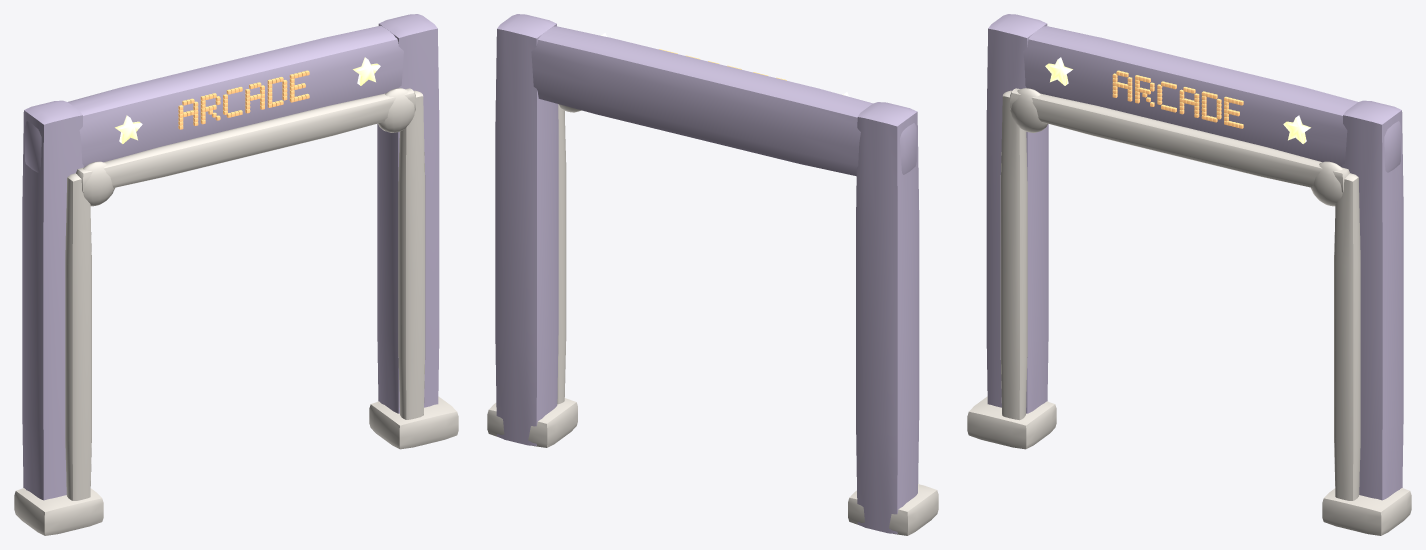
The model's file is arcade_doorway.glb.
The picture shows the model from 3 angles, left to right: view 1: azimuth 30°, elevation 25°; view 2: azimuth 150°, elevation 25°; view 3: azimuth 330°, elevation 25°; orthographic projection.
Parts seen in each view (by area): view 1: lavender jamb (×2), header, cream doorway trim (×2), upper cream lintel, jamb foot (×2), ARCADE editable mesh lettering, rounded inner corner (×2); view 2: lavender jamb (×2), header, jamb foot (×2), cream doorway trim; view 3: lavender jamb (×2), header, cream doorway trim (×2), upper cream lintel, jamb foot (×2), ARCADE editable mesh lettering, rounded inner corner (×2).
Part boxes in pixels (<box>): lavender jamb (×2): <box>22,14,439,500</box>; header: <box>25,25,403,172</box>; cream doorway trim (×2): <box>65,90,425,500</box>; upper cream lintel: <box>76,88,415,192</box>; jamb foot (×2): <box>14,396,458,535</box>; ARCADE editable mesh lettering: <box>178,70,309,129</box>; rounded inner corner (×2): <box>83,88,414,206</box>; lavender jamb (×2): <box>495,14,919,533</box>; header: <box>531,26,916,176</box>; jamb foot (×2): <box>487,398,938,535</box>; cream doorway trim: <box>557,104,566,404</box>; lavender jamb (×2): <box>986,14,1403,500</box>; header: <box>1023,26,1400,172</box>; cream doorway trim (×2): <box>1000,90,1360,500</box>; upper cream lintel: <box>1010,88,1349,192</box>; jamb foot (×2): <box>967,396,1411,535</box>; ARCADE editable mesh lettering: <box>1112,70,1243,128</box>; rounded inner corner (×2): <box>1011,88,1342,206</box>.
Bounding box in the file's own units: 3.86 × 3.6 × 0.54.
